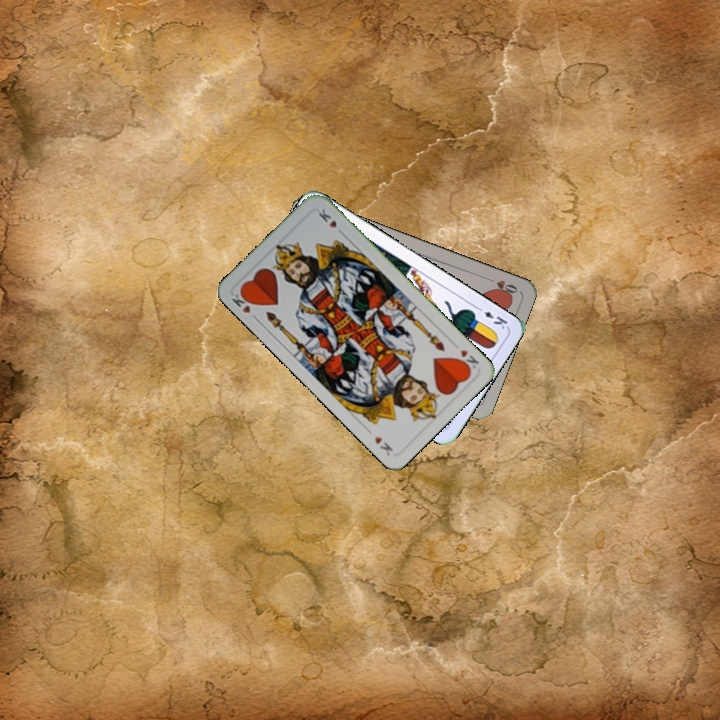EK: (472, 302, 510, 332)
HK: (228, 287, 261, 323), (453, 345, 481, 375)
HO: (482, 274, 520, 298)
